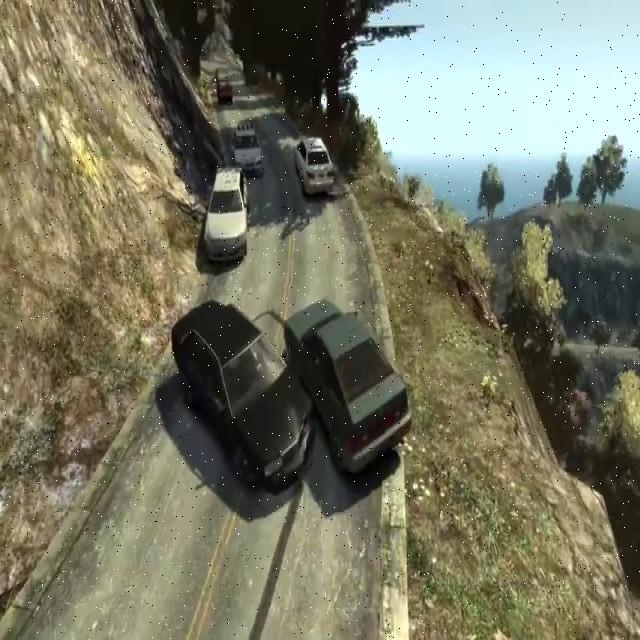moderate: (164, 288, 418, 496)
